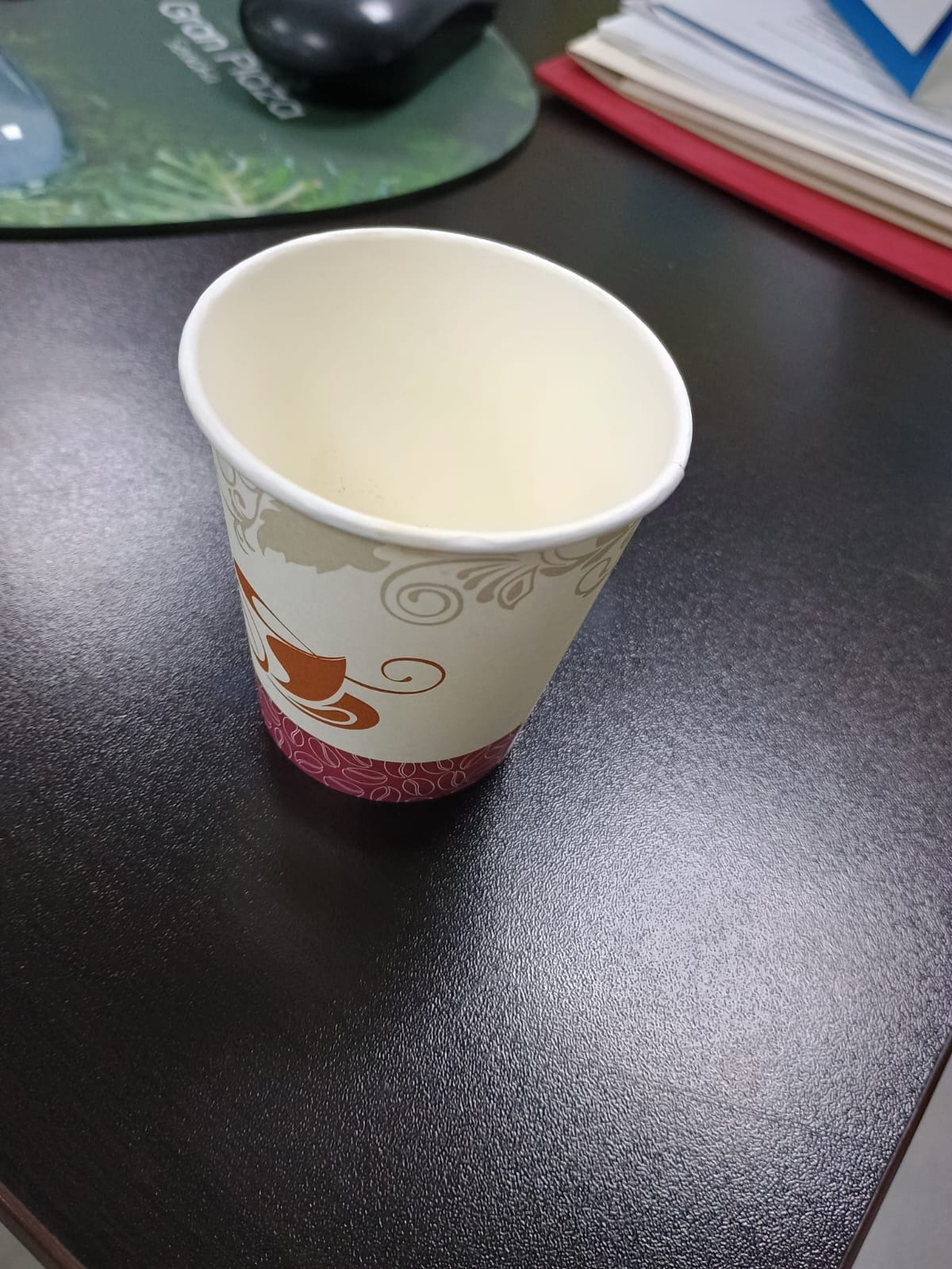Carton: (172, 225, 694, 802)
